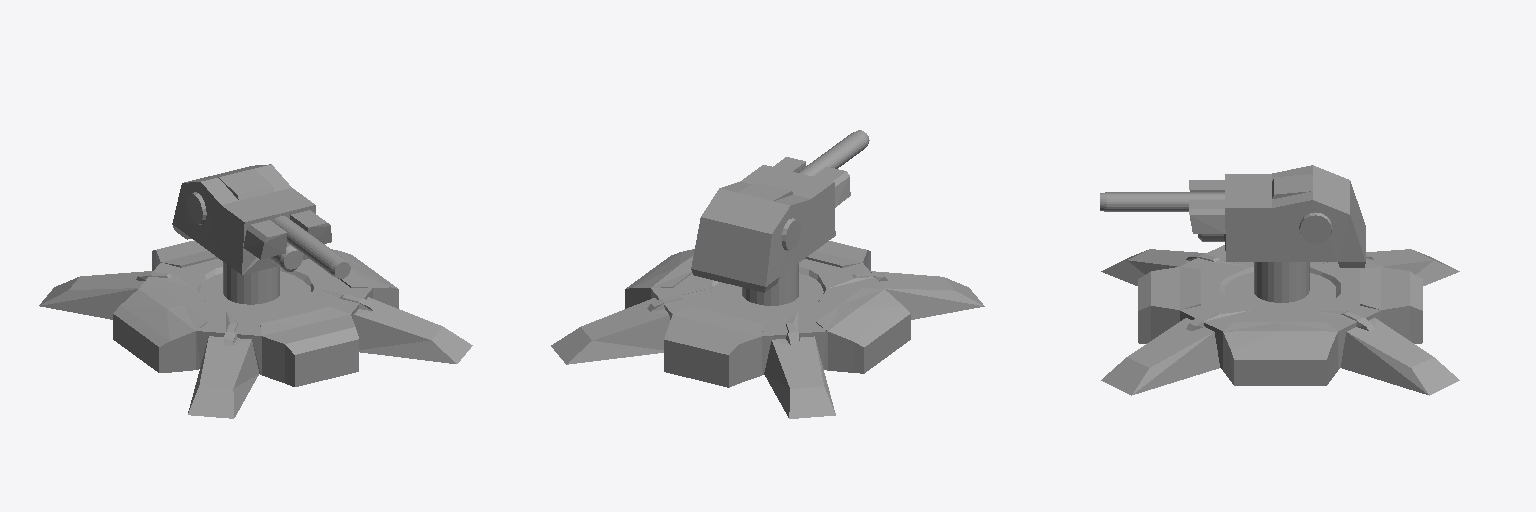
File: Turret.obj
3 views of the same model, side by side, from view 1: azimuth 30°, elevation 25°; view 2: azimuth 150°, elevation 25°; view 3: azimuth 270°, elevation 25° (orthographic).
Parts seen in each view (by area): view 1: Cube, Cube.001; view 2: Cube, Cube.001; view 3: Cube, Cube.001.
Boxes of the visible parts, <box> form: Cube: <box>39,240,472,418</box>; Cube.001: <box>172,164,350,304</box>; Cube: <box>551,241,984,418</box>; Cube.001: <box>691,130,869,305</box>; Cube: <box>1101,245,1459,395</box>; Cube.001: <box>1100,165,1365,302</box>.
Bounding box in the file's own units: 5.88 × 2.83 × 6.44.